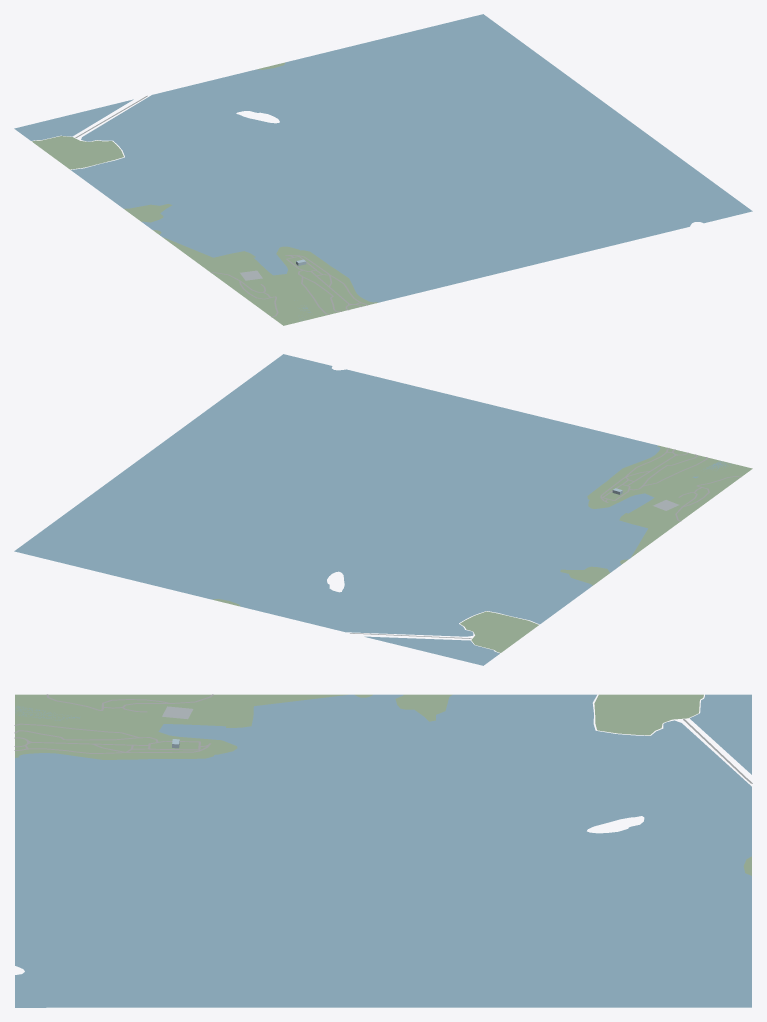
The model's file is 12_4-known-coarse.glb.
3 views of the same model, one above another, from view 1: azimuth 30°, elevation 25°; view 2: azimuth 150°, elevation 25°; view 3: azimuth 270°, elevation 25° (orthographic). The views are drawn at different scales.
Bounding box in the file's own units: 1002 × 6 × 998.
